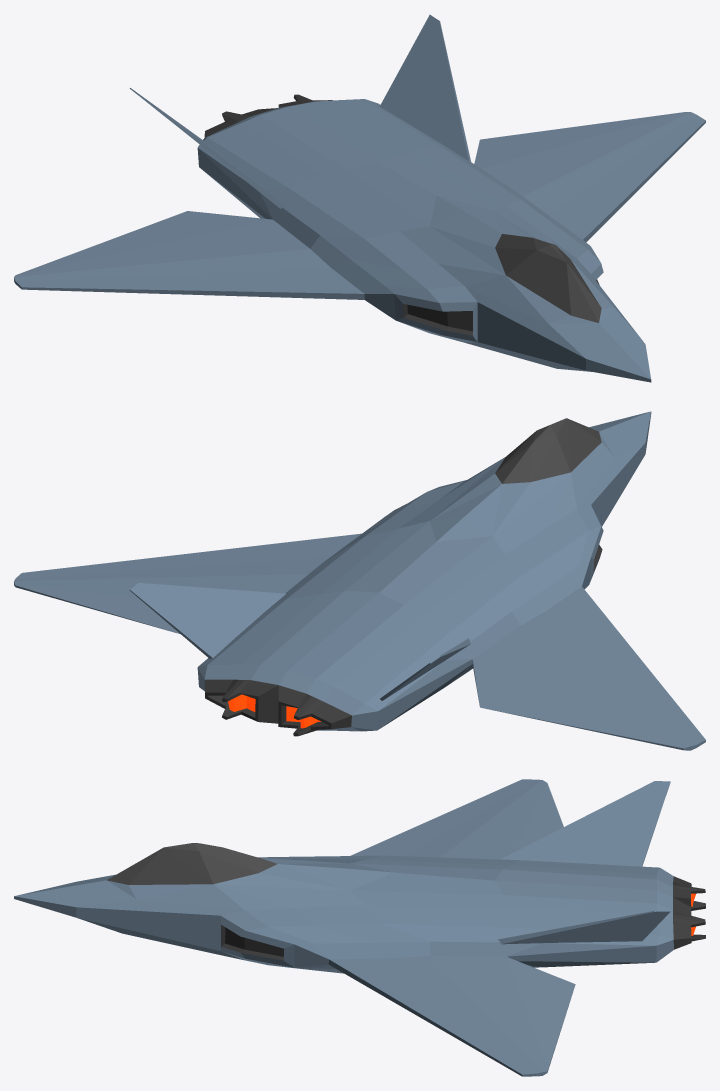
3 renders of one model, top to bottom at view 1: azimuth 30°, elevation 25°; view 2: azimuth 150°, elevation 25°; view 3: azimuth 270°, elevation 25°, orthographic. The views are drawn at different scales.
Visible parts, largest first — view 1: Frame_0, Wings.Front_2, Wings.Back_1; view 2: Frame_0, Wings.Front_2, Wings.Back_1; view 3: Frame_0, Wings.Front_2, Wings.Back_1.
Part boxes in pixels (<box>): Frame_0: <box>197,94,651,382</box>; Wings.Front_2: <box>14,112,705,299</box>; Wings.Back_1: <box>129,14,470,208</box>; Frame_0: <box>197,411,651,736</box>; Wings.Front_2: <box>14,533,705,750</box>; Wings.Back_1: <box>129,583,470,700</box>; Frame_0: <box>14,843,705,973</box>; Wings.Front_2: <box>328,779,575,1076</box>; Wings.Back_1: <box>498,781,670,944</box>.
Size of the model in its own units: 7.5 by 1.37 by 7.42.
